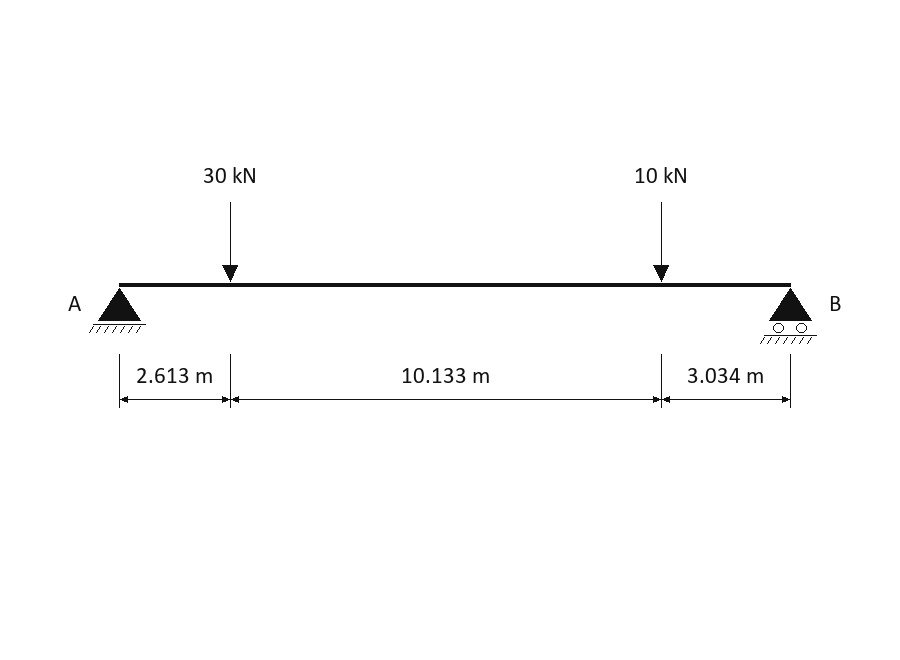pin_support: (89, 288, 146, 333)
point_load: (222, 202, 238, 282), (653, 202, 669, 282)
roller_support: (760, 288, 817, 344)
